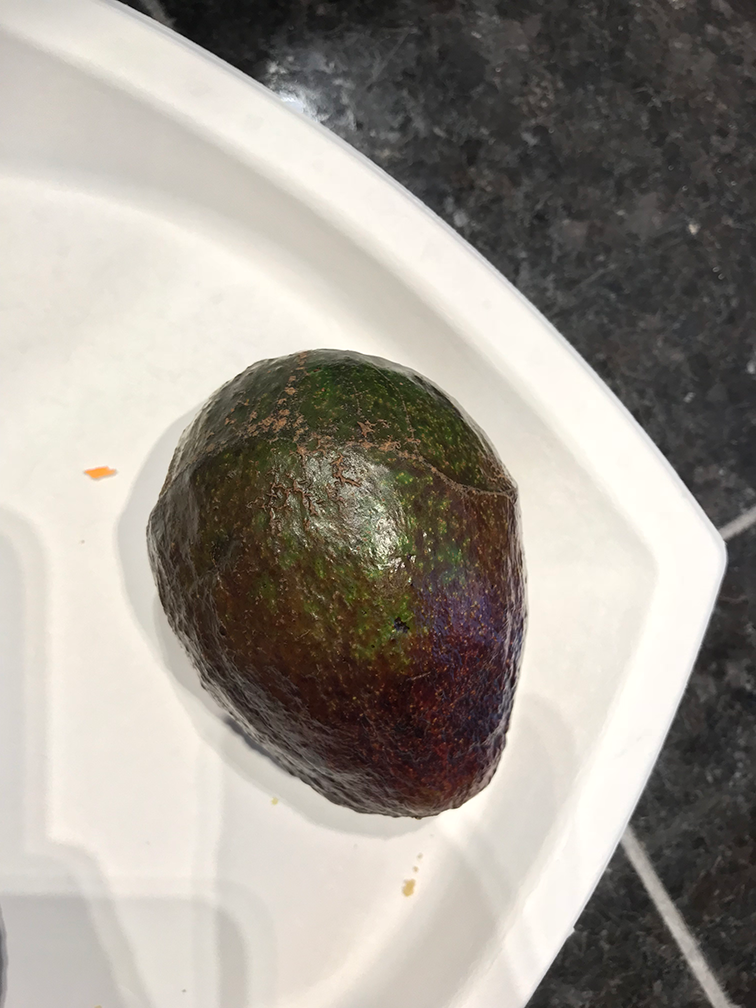avocado: (143, 326, 530, 834)
